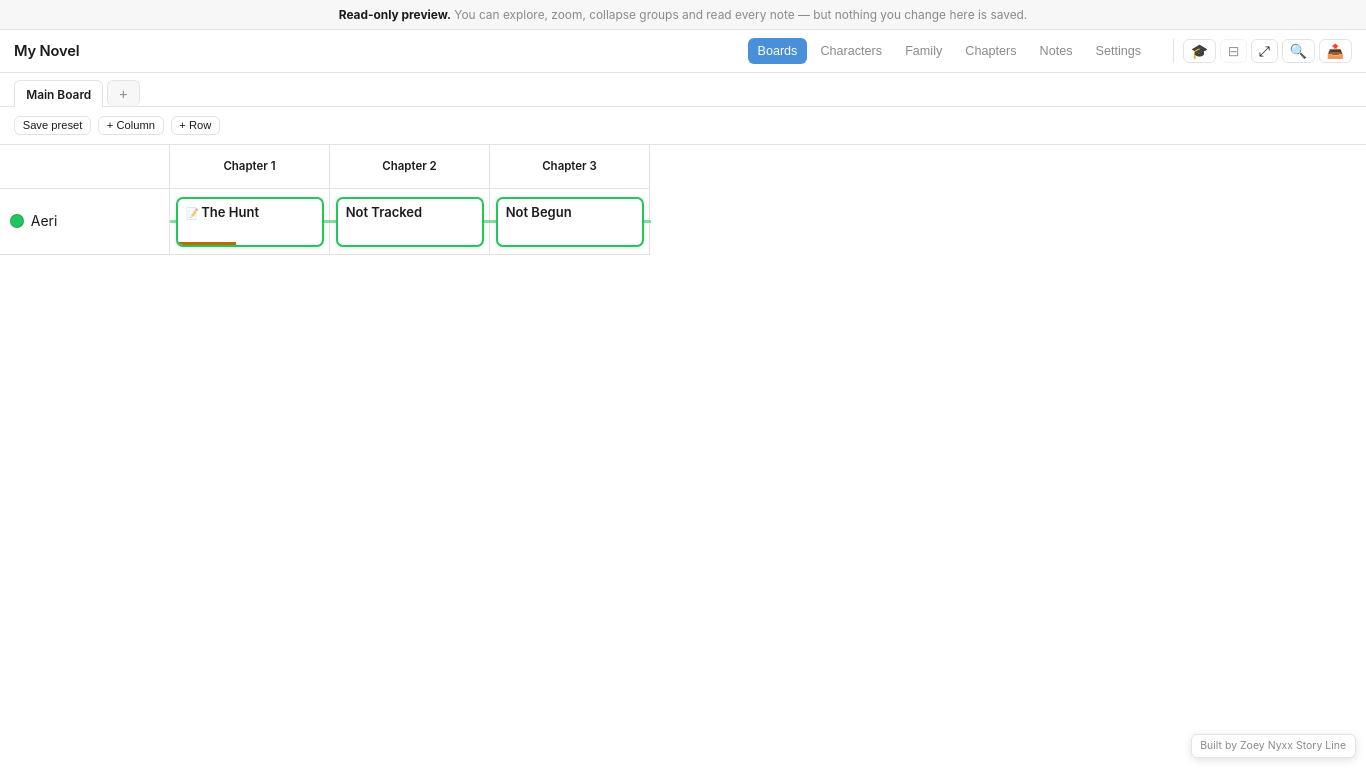
Test: % complete dropdown › is disabled in a published export
The width and height of the screenshot is (1366, 768).
expect the heading "My Novel" is shown: met, box left=14, top=42, right=80, bottom=60
Click the text "The Hunt" at (222, 212), box left=186, top=204, right=259, bottom=220
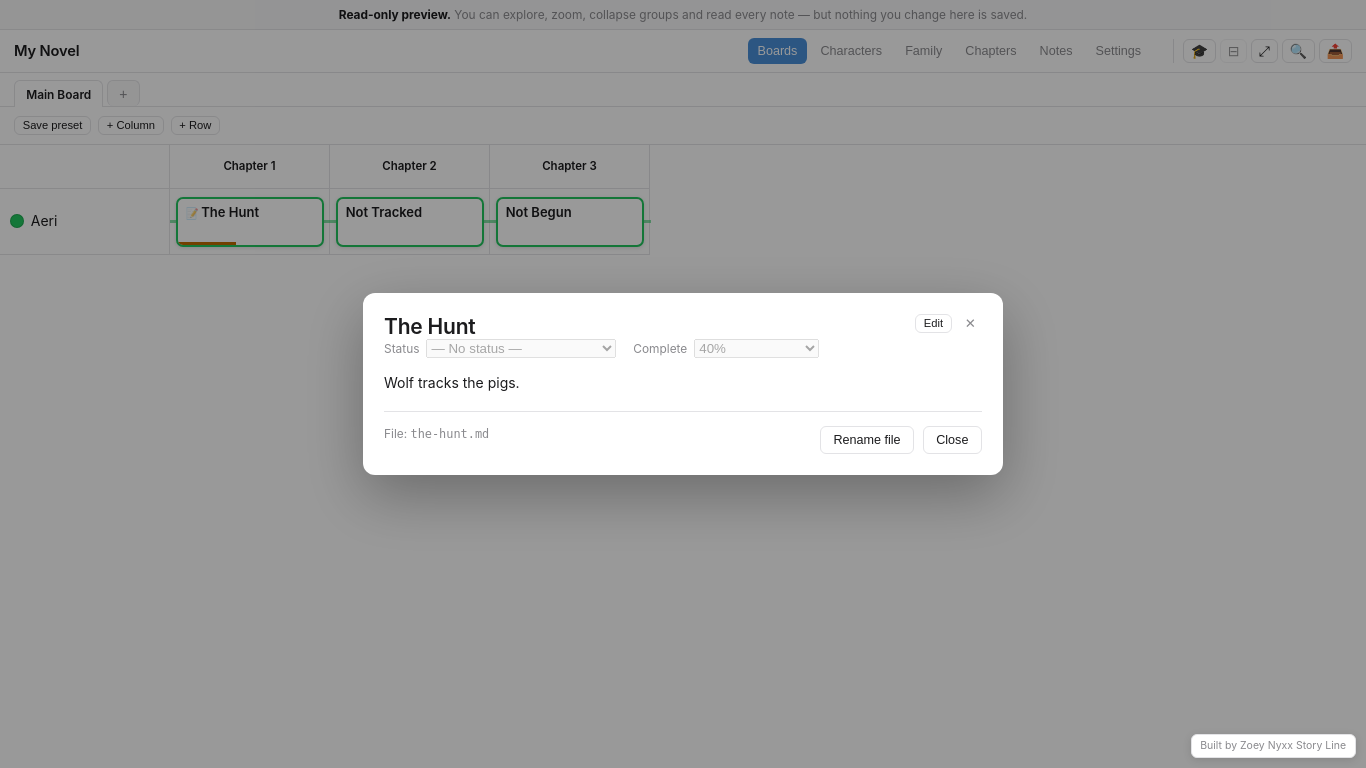
expect the dropdown named "% complete" is disabled: met, box left=694, top=339, right=819, bottom=358
